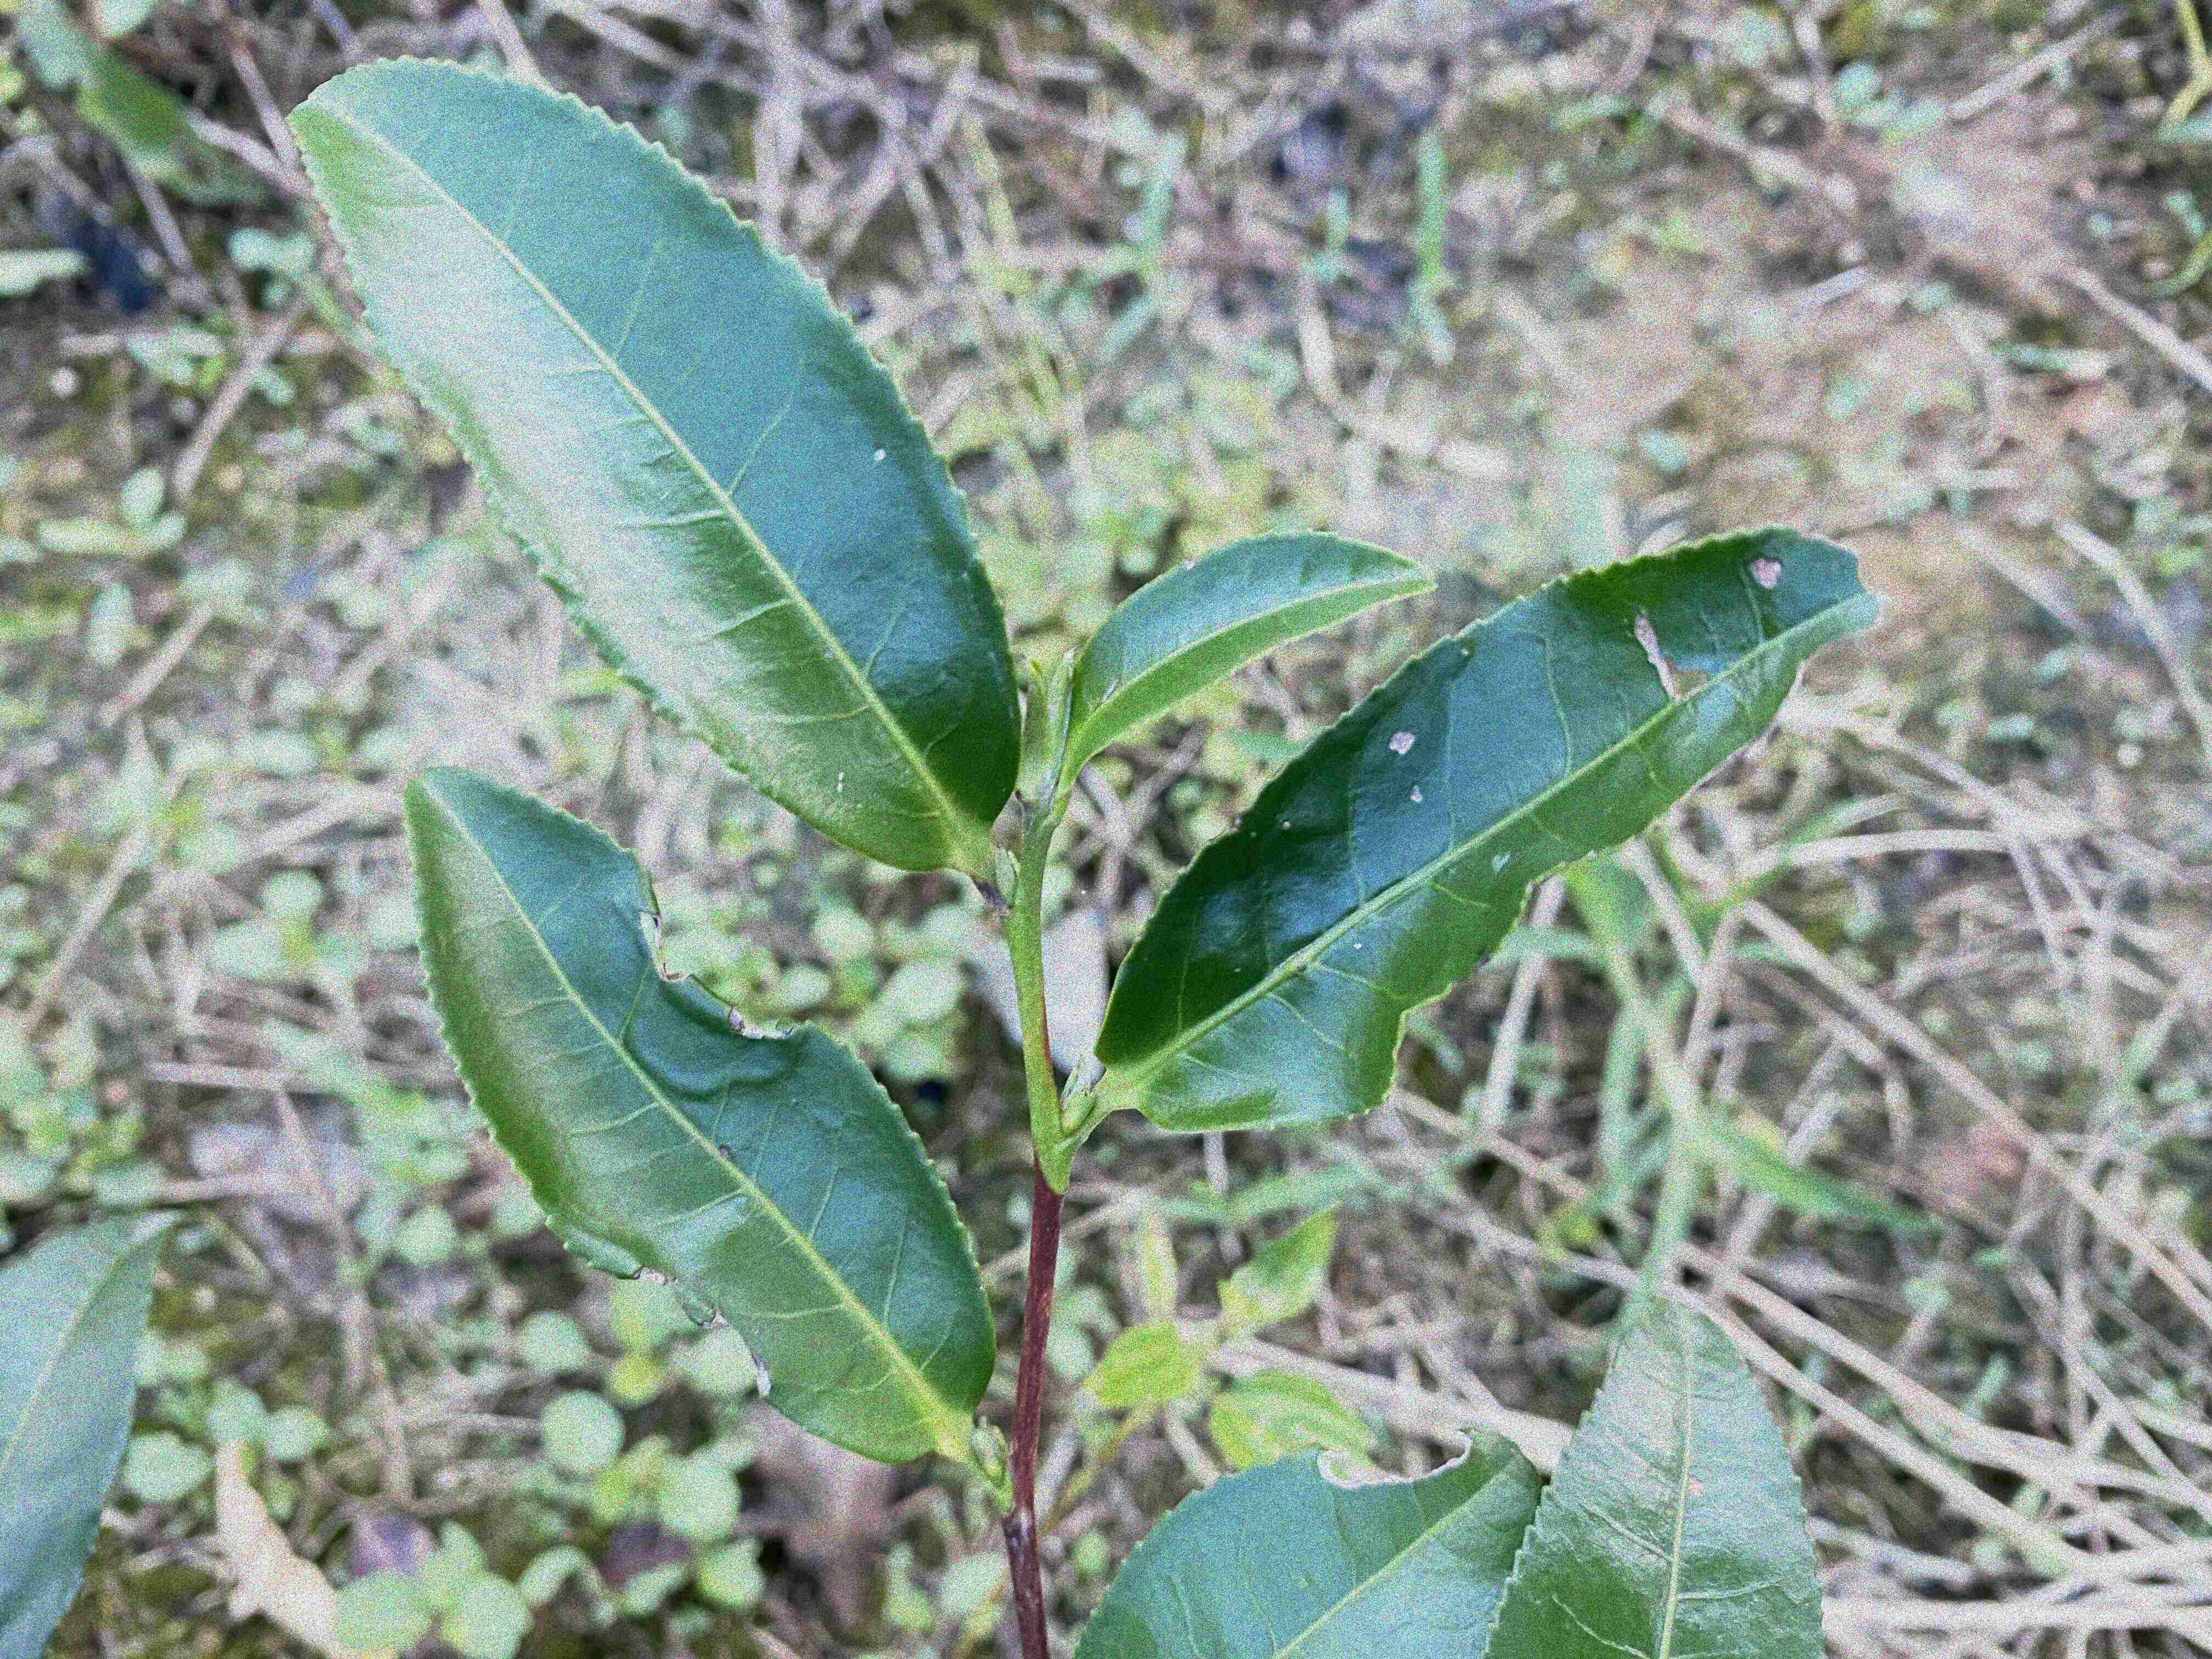chihuo_high: (399, 763, 1000, 1467)
chihuo_low: (1078, 1427, 1543, 1657)
healthy: (3, 1209, 188, 1652)
tanju_low: (284, 54, 1026, 871), (1094, 519, 1888, 1133), (1480, 1297, 1831, 1659)
